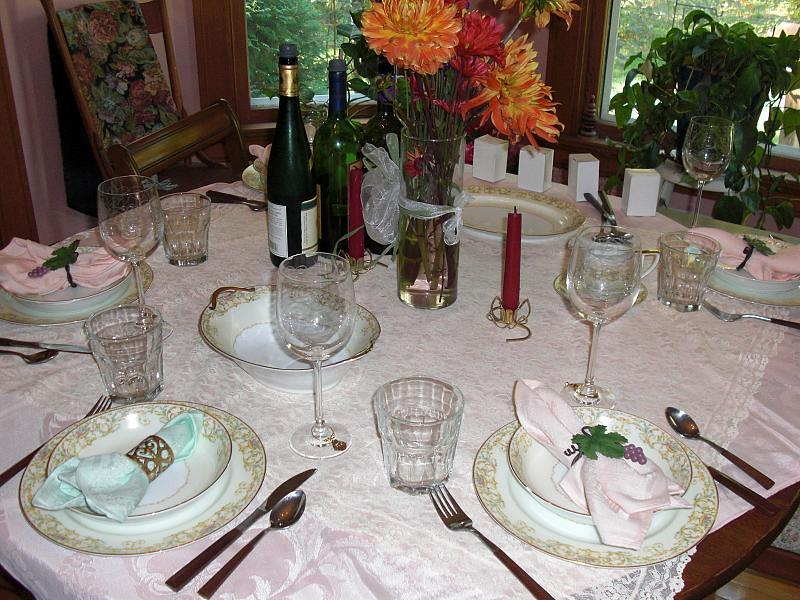table: (1, 152, 799, 599)
